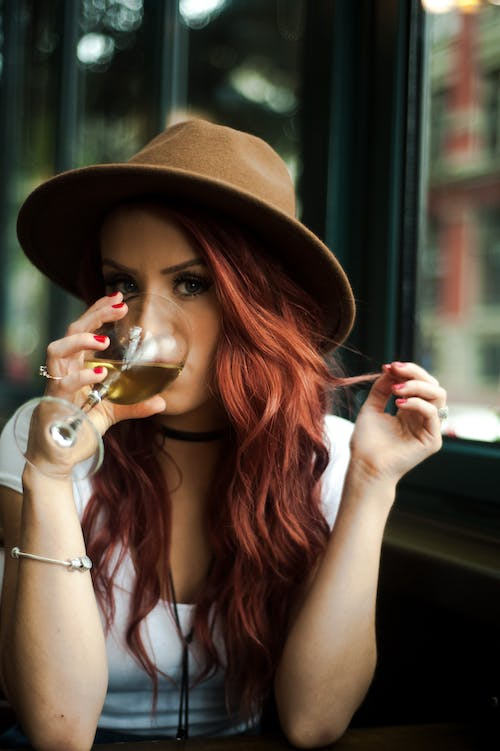alcohol: (11, 290, 194, 483)
